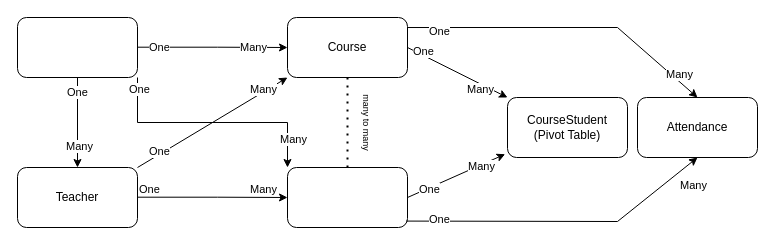
Some shapes in this 775 by 247 pixel diagram are drawn without their labels. The box of each missing label's shape, as (x1, y1, x2, y2) in pixels:
Admin: (16, 16, 138, 78)
Student: (286, 166, 408, 228)
